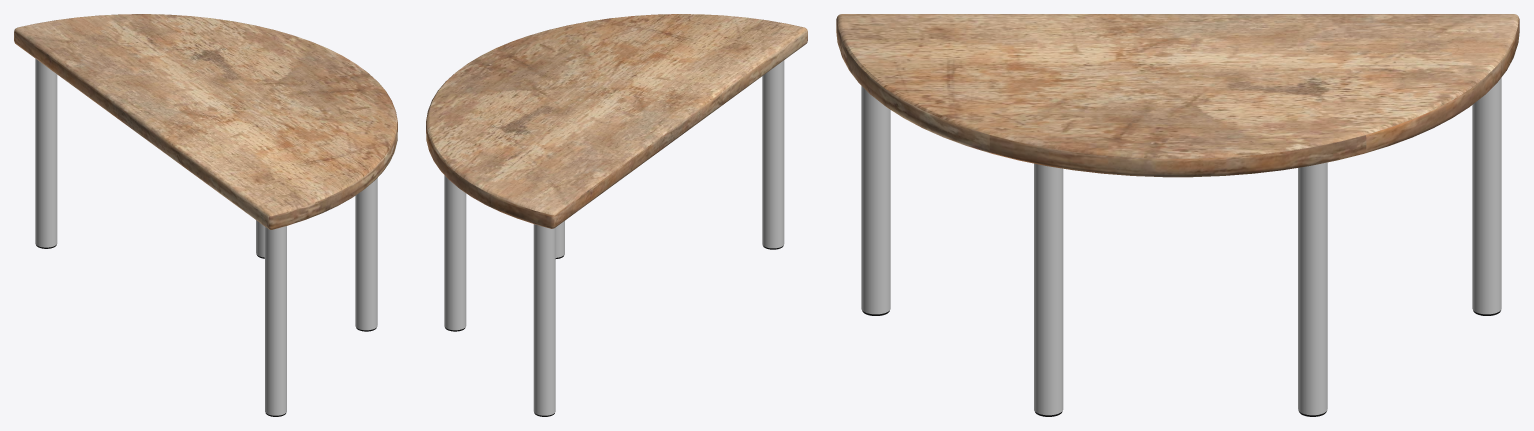
The model's file is demi table ronde.fbx.
3 views of the same model, side by side, from view 1: azimuth 30°, elevation 25°; view 2: azimuth 150°, elevation 25°; view 3: azimuth 270°, elevation 25° (orthographic). The views are drawn at different scales.
Visible parts, largest first — view 1: Cylindre, Cylindre.001, Cylindre.002, Cylindre.003; view 2: Cylindre, Cylindre.001, Cylindre.002, Cylindre.004; view 3: Cylindre, Cylindre.004, Cylindre.003, Cylindre.001, Cylindre.002.
Part boxes in pixels (x1,y1,x2,y2): Cylindre: (14, 14, 397, 229); Cylindre.001: (35, 58, 57, 248); Cylindre.002: (265, 226, 286, 416); Cylindre.003: (355, 178, 377, 331); Cylindre: (426, 14, 807, 228); Cylindre.001: (533, 224, 555, 416); Cylindre.002: (762, 60, 784, 249); Cylindre.004: (444, 175, 466, 331); Cylindre: (836, 14, 1519, 177); Cylindre.004: (1298, 162, 1327, 416); Cylindre.003: (1034, 163, 1063, 416); Cylindre.001: (1472, 77, 1501, 315); Cylindre.002: (861, 86, 890, 315).
Bounding box in the file's own units: 59.94 × 55.04 × 120.
3 materials, 1 textured.
